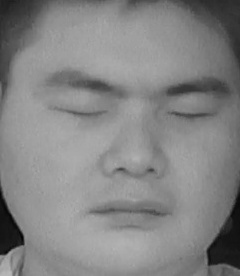blink: (59, 96, 107, 132), (170, 96, 218, 132)
mouth: (90, 187, 173, 230)
